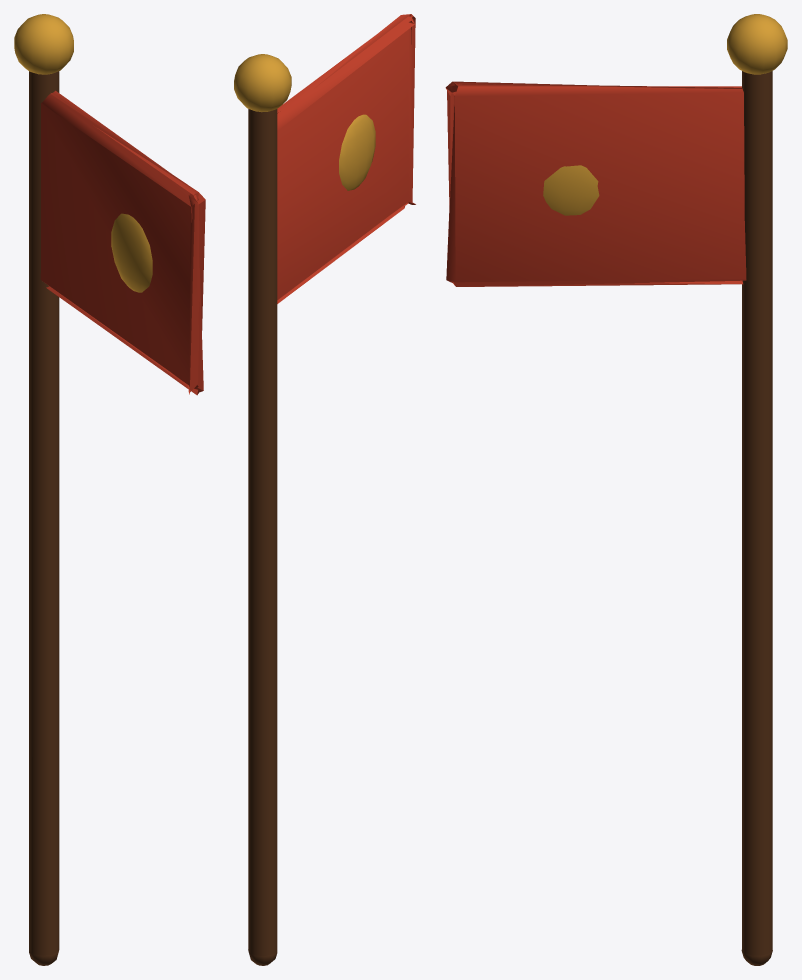
Rendered from banner.fbx.
3 views of the same model, side by side, from view 1: azimuth 30°, elevation 25°; view 2: azimuth 150°, elevation 25°; view 3: azimuth 270°, elevation 25° (orthographic). The views are drawn at different scales.
Parts seen in each view (by area): view 1: banner; view 2: banner; view 3: banner.
Boxes of the visible parts, x1,y1,x2,y2 form: banner: (14, 14, 205, 965); banner: (234, 14, 415, 965); banner: (445, 14, 787, 965).
Bounding box in the file's own units: 0.192 × 3.4 × 1.11.
